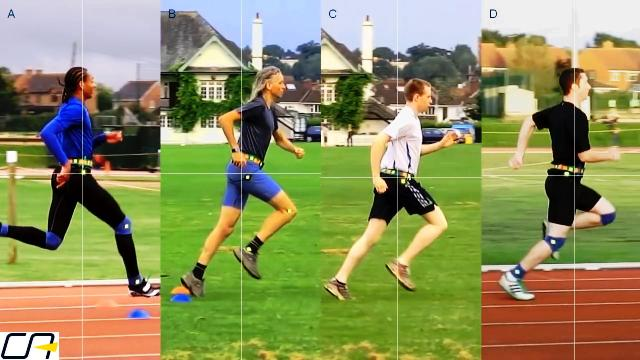berlari: (0, 57, 156, 310), (322, 69, 474, 308), (497, 54, 623, 316), (178, 58, 314, 298)
